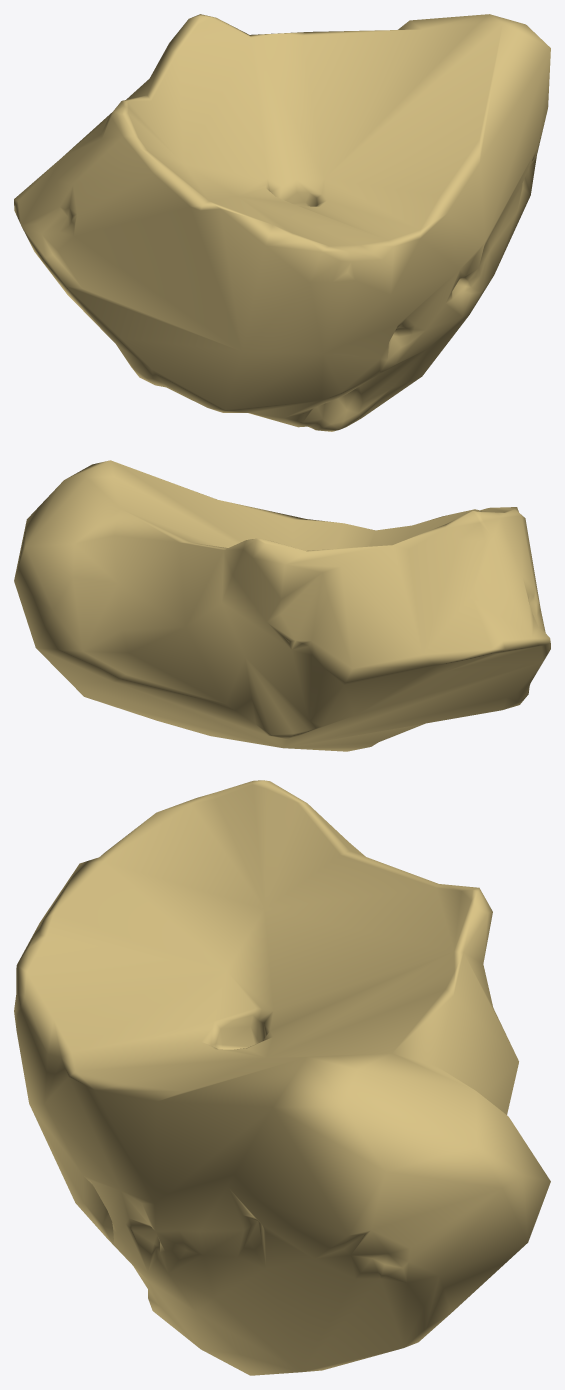
The picture shows the model from 3 angles, top to bottom: view 1: azimuth 30°, elevation 25°; view 2: azimuth 150°, elevation 25°; view 3: azimuth 270°, elevation 25°; orthographic projection. The views are drawn at different scales.
Visible parts, largest first — view 1: 右侧足舟骨; view 2: 右侧足舟骨; view 3: 右侧足舟骨.
Part boxes in pixels (left/top/right/bottom): 右侧足舟骨: left=14, top=14, right=550, bottom=431; 右侧足舟骨: left=14, top=460, right=550, bottom=751; 右侧足舟骨: left=14, top=780, right=550, bottom=1375.
Bounding box in the file's own units: 0.0599 × 0.0354 × 0.0405.
